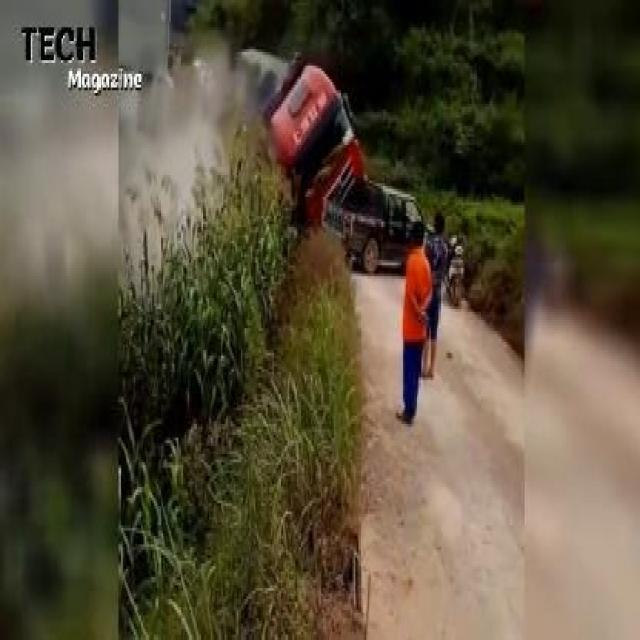accident: (235, 41, 451, 276)
